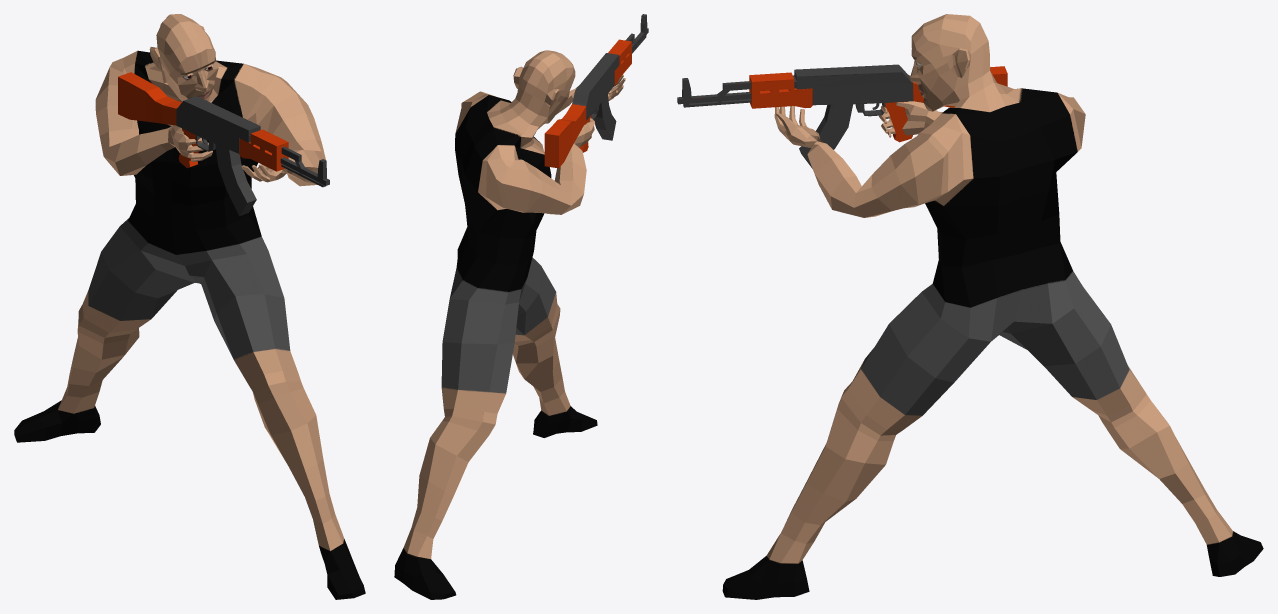
File: PlayerShoot(16).obj
3 views of the same model, side by side, from view 1: azimuth 30°, elevation 25°; view 2: azimuth 150°, elevation 25°; view 3: azimuth 270°, elevation 25° (orthographic). The views are drawn at different scales.
Visible parts, largest first — view 1: Plane002, Object001; view 2: Plane002, Object001; view 3: Plane002, Object001.
Boxes of the visible parts, <box> form: Plane002: <box>14,14,365,599</box>; Object001: <box>118,72,329,215</box>; Plane002: <box>394,50,625,599</box>; Object001: <box>544,14,648,168</box>; Plane002: <box>722,14,1263,599</box>; Object001: <box>677,64,1007,168</box>.
Size of the model in its own units: 541 by 1627 by 1594.
